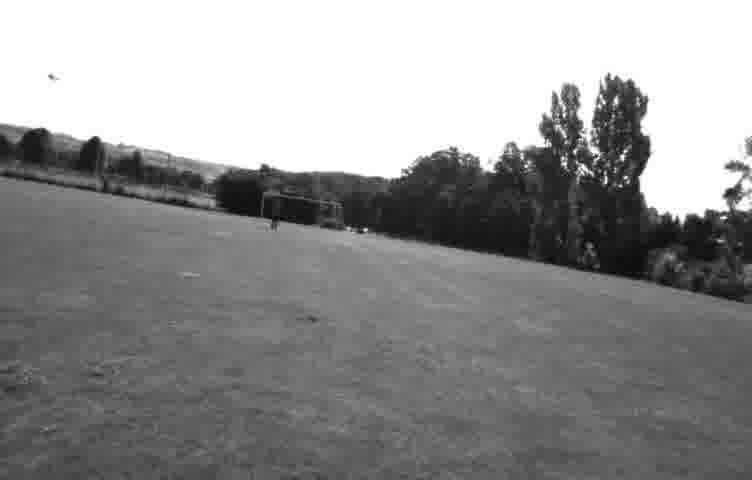drone: (43, 67, 65, 88)
